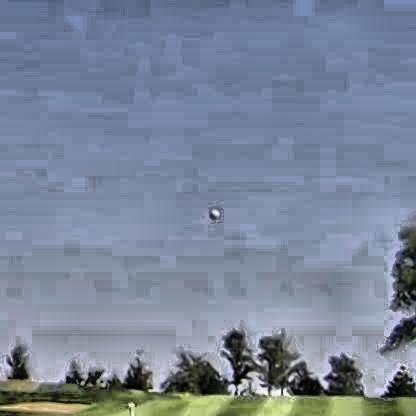golfball: (206, 207, 217, 218)
